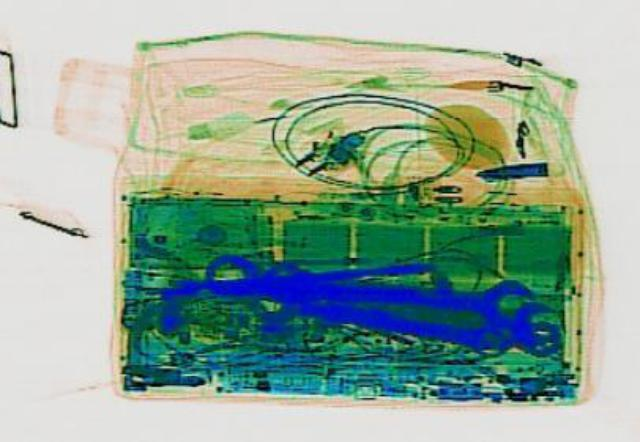Wrench: (198, 237, 536, 328)
